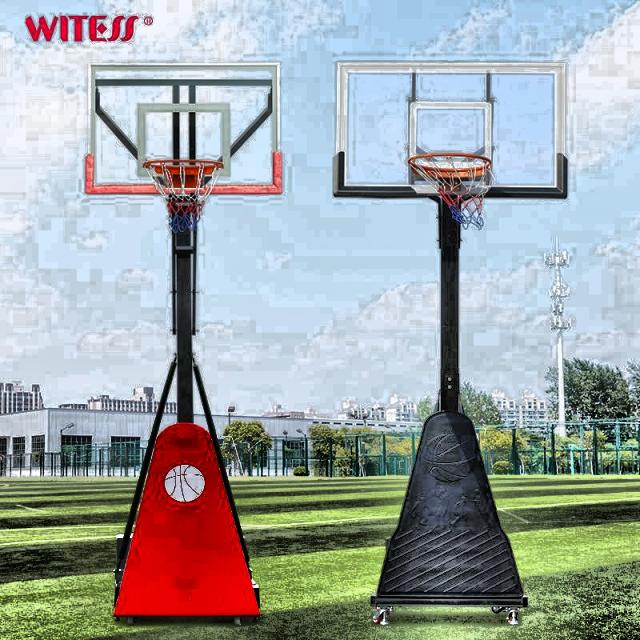rim: (408, 152, 490, 230), (141, 157, 222, 232)
